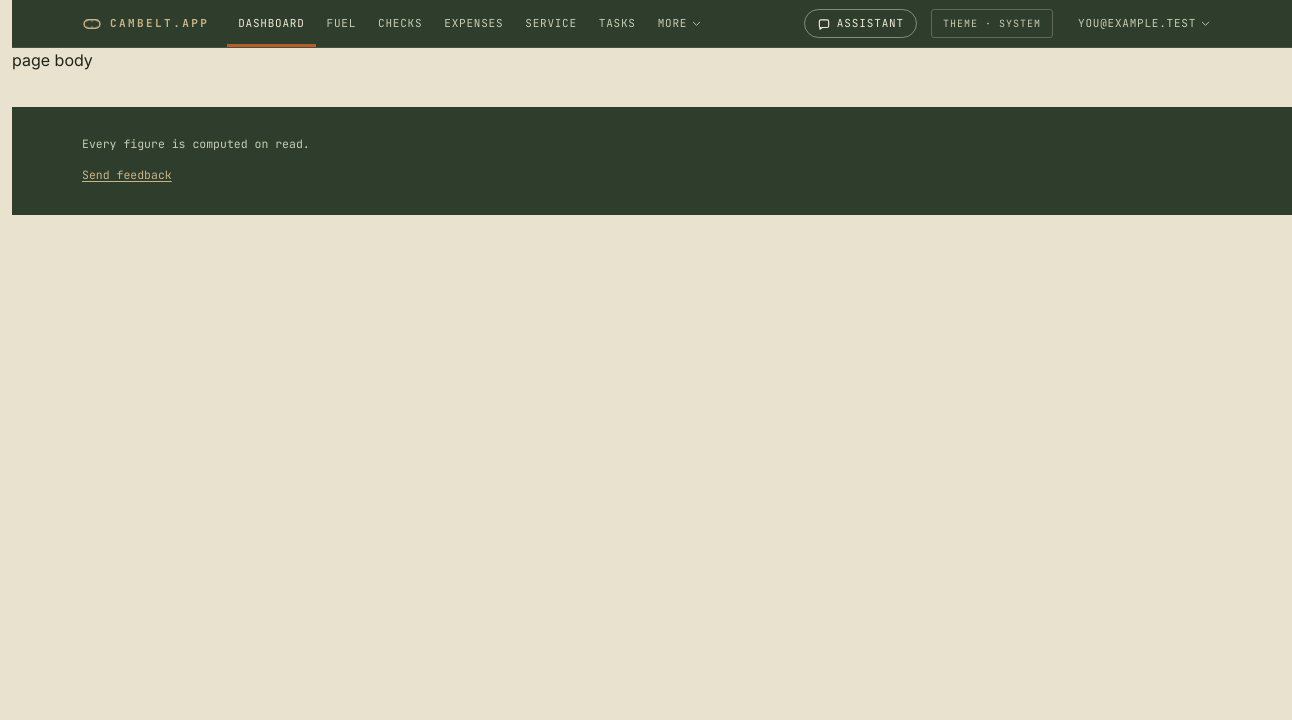
AppShell › the assistant › is reachable from the bar, and names the car as it is written on the car
This screenshot has width=1292, height=720.
Step 1. Click the button with aria-label "Open the assistant" → (860, 24), box [804,9,917,38]
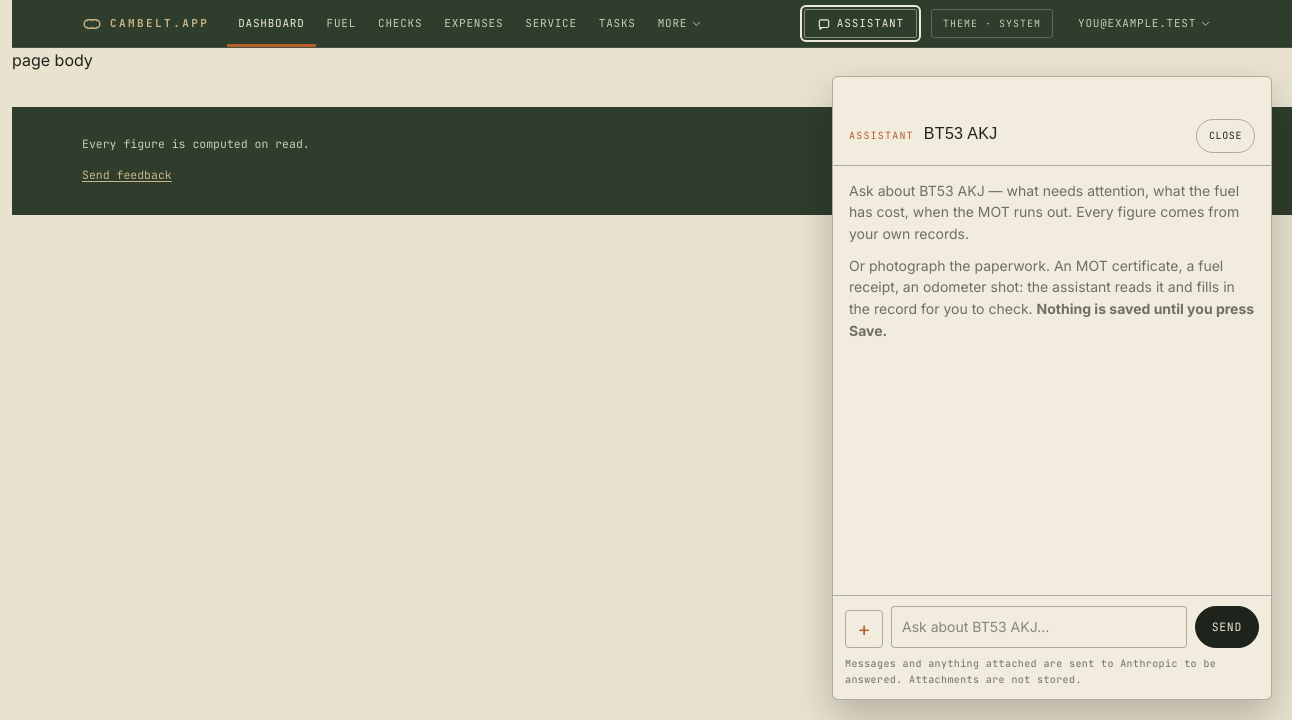
Check: the heading "BT53 AKJ" is shown, box [924,125,998,142]
